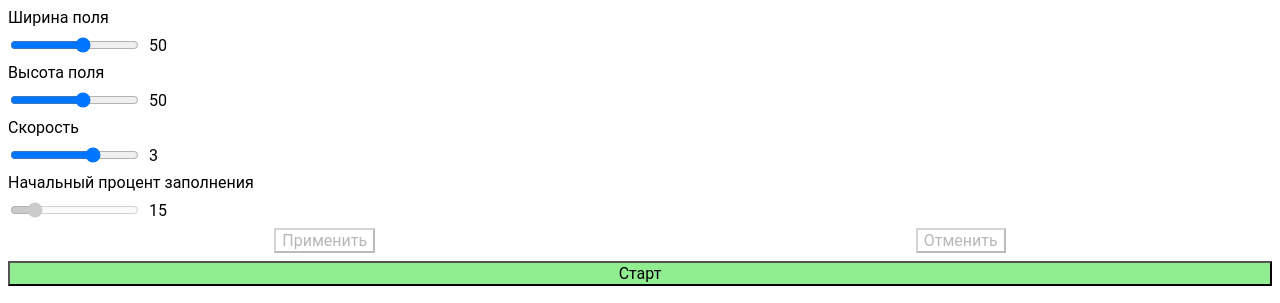
Test: Settings › button cancel should reset changes
This screenshot has width=1280, height=303.
Set the slider with test id "inputBoardSizeX" to "80" at (131, 45), box x1=10 y1=37 x2=139 y2=53
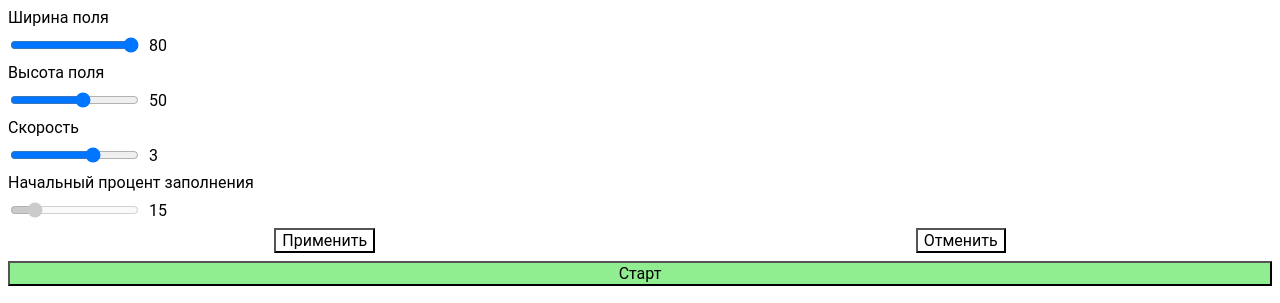
Click the button with test id "s-btn-cancel".
click(961, 240)  # box x1=916 y1=228 x2=1006 y2=253
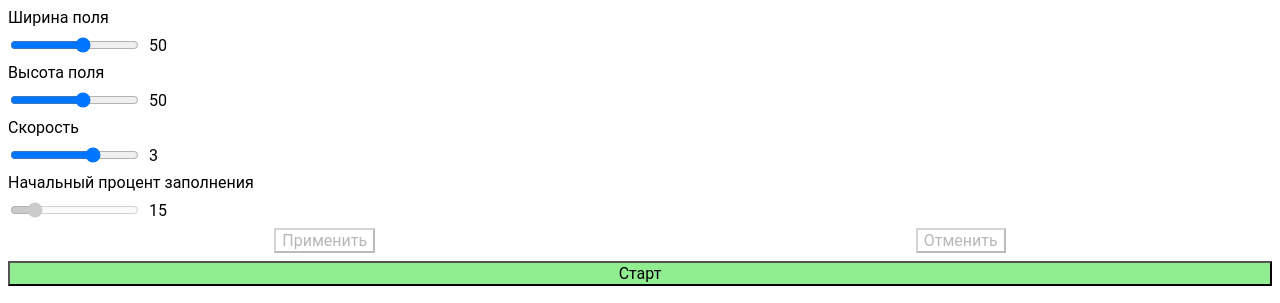
Expected: the slider with test id "inputBoardSizeX" holds "50", x1=10 y1=37 x2=139 y2=53
